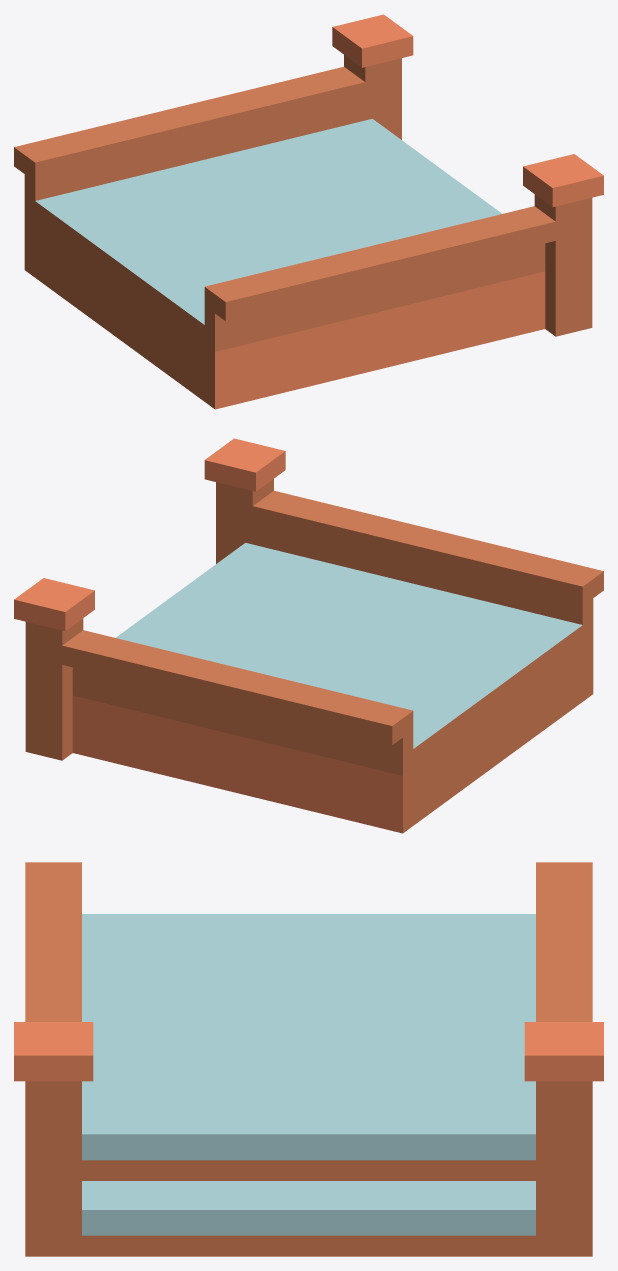
The model's file is bridge_side_wood.obj.
The picture shows the model from 3 angles, top to bottom: view 1: azimuth 30°, elevation 25°; view 2: azimuth 150°, elevation 25°; view 3: azimuth 270°, elevation 25°; orthographic projection. The views are drawn at different scales.
Parts seen in each view (by area): view 1: bridge_side_wood; view 2: bridge_side_wood; view 3: bridge_side_wood.
Part boxes in pixels (x1=…): bridge_side_wood: x1=14, y1=14, x2=603, y2=409; bridge_side_wood: x1=14, y1=438, x2=603, y2=833; bridge_side_wood: x1=14, y1=862, x2=603, y2=1256.
Size of the model in its own units: 1.02 by 0.4 by 1.04.
